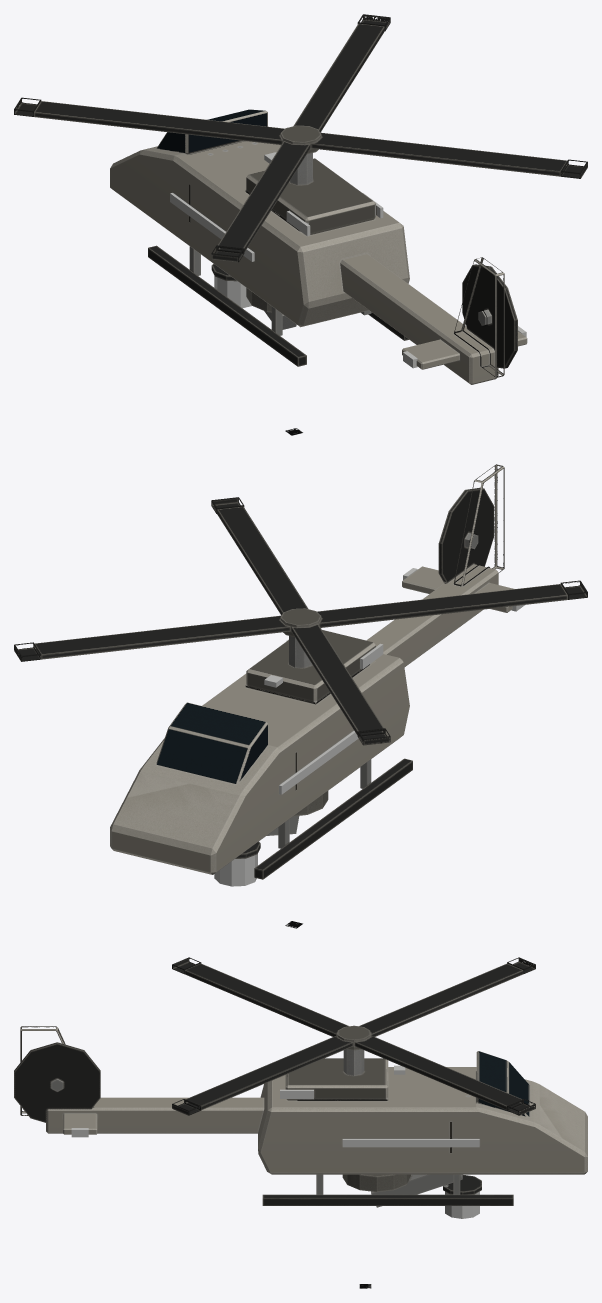
The model's file is ord_skywright.fbx.
3 renders of one model, top to bottom at view 1: azimuth 30°, elevation 25°; view 2: azimuth 150°, elevation 25°; view 3: azimuth 270°, elevation 25°, orthographic. The views are drawn at different scales.
Parts seen in each view (by area): view 1: base_bar, rotor_bar, base_glow_running_bar, nano_bar, nano_glow_power_bar; view 2: base_bar, rotor_bar, base_glow_running_bar, nano_glow_power_bar, nano_bar; view 3: base_bar, rotor_bar, nano_bar, base_glow_running_bar.
Part boxes in pixels (box(x1,y1,x2,y2)): base_bar: box(110, 109, 527, 384); rotor_bar: box(14, 14, 587, 262); base_glow_running_bar: box(170, 152, 526, 368); nano_bar: box(211, 264, 296, 329); nano_glow_power_bar: box(214, 276, 251, 308); base_bar: box(110, 464, 514, 879); rotor_bar: box(14, 497, 587, 745); base_glow_running_bar: box(264, 568, 524, 794); nano_glow_power_bar: box(214, 854, 257, 886); nano_bar: box(235, 791, 328, 858); base_bar: box(14, 1026, 587, 1205); rotor_bar: box(172, 957, 535, 1115); nano_bar: box(342, 1174, 481, 1207); base_glow_running_bar: box(71, 1065, 479, 1147).
Size of the model in its own units: 638 by 500 by 1006.
2 materials, 2 textured.
